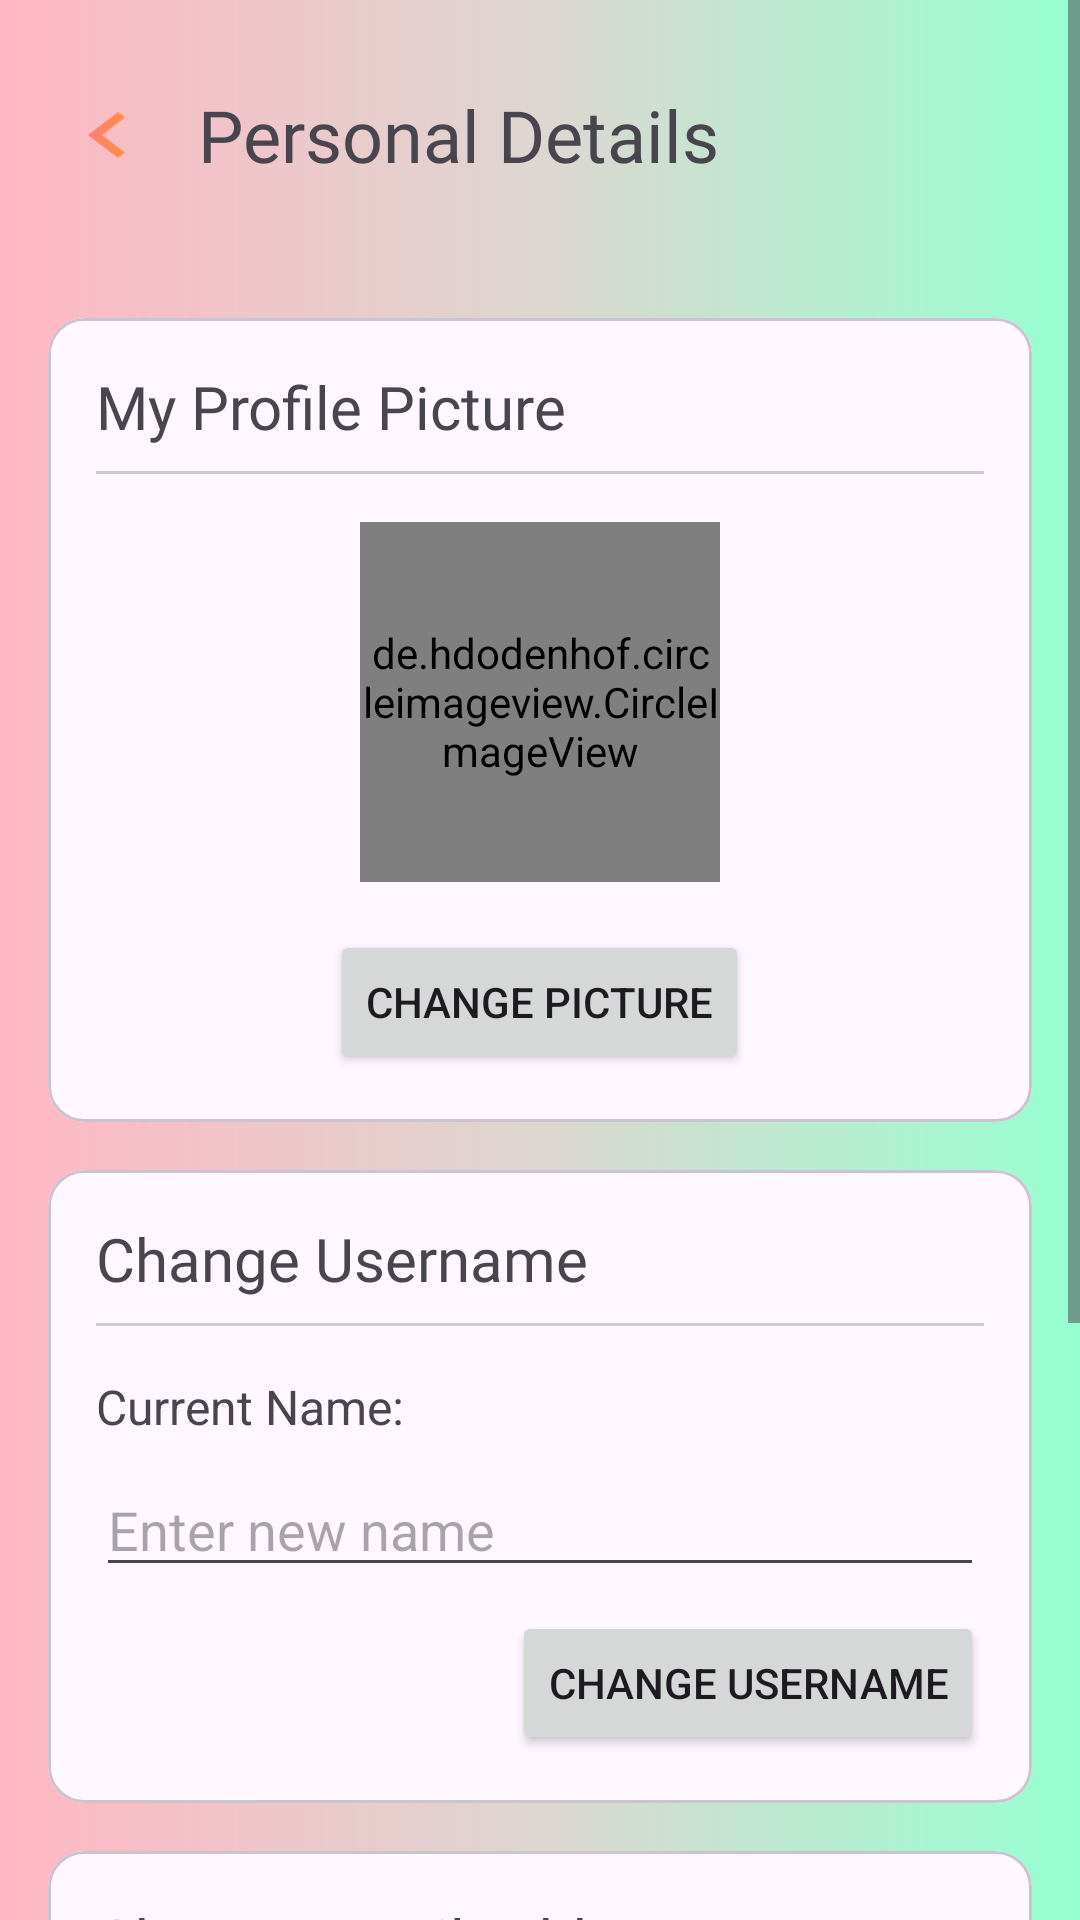

Screen size 1080 x 1920. Icon name, then its center in pixels as [x,y]:
arrow left: [106,135]
